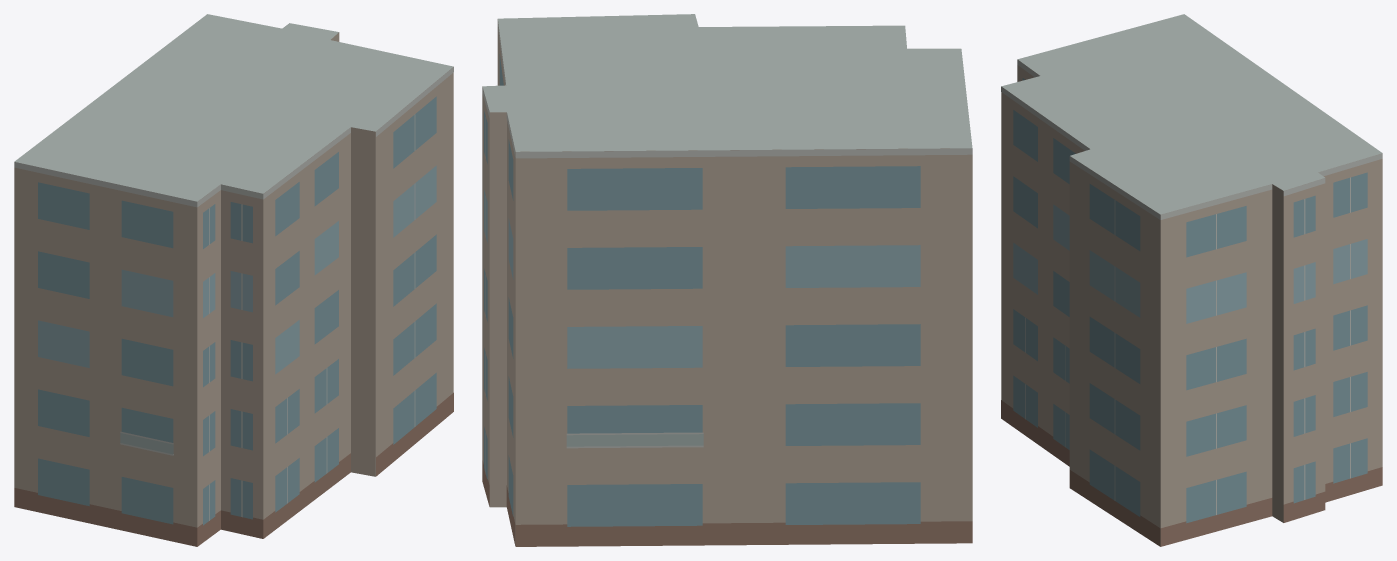
File: survey-upis-32782124.glb
The picture shows the model from 3 angles, left to right: view 1: azimuth 30°, elevation 25°; view 2: azimuth 150°, elevation 25°; view 3: azimuth 270°, elevation 25°; orthographic projection. The views are drawn at different scales.
Visible parts, largest first — view 1: survey-upis-32782124.tmp; view 2: survey-upis-32782124.tmp; view 3: survey-upis-32782124.tmp.
Boxes of the visible parts, box(x1,y1,x2,y2) form: survey-upis-32782124.tmp: box(14, 14, 453, 546); survey-upis-32782124.tmp: box(482, 14, 972, 546); survey-upis-32782124.tmp: box(1001, 14, 1382, 546).
Size of the model in its own units: 18.98 by 14.65 by 15.25.
